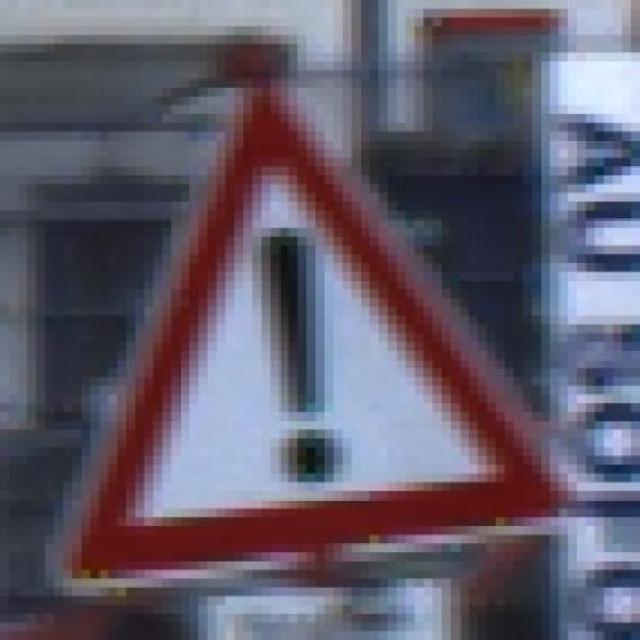Attention Please-: (54, 70, 568, 587)
